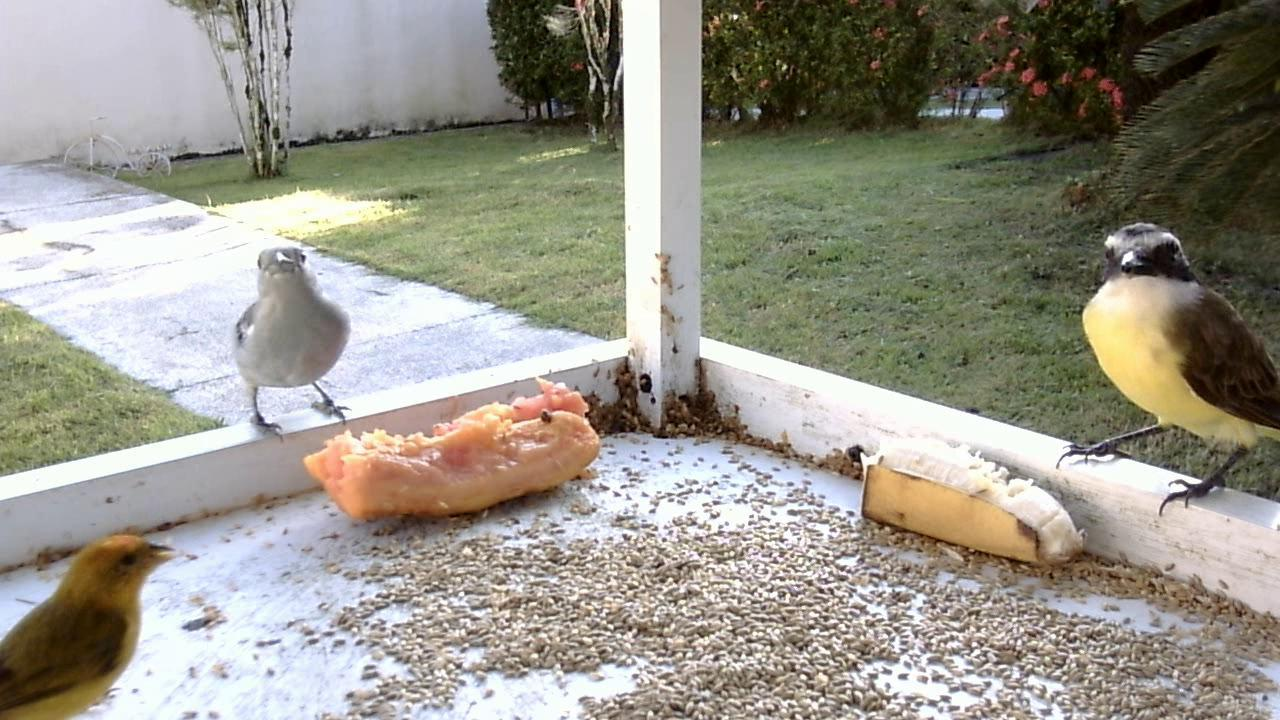bem_te_vi: (1046, 212, 1278, 541)
canario_do_amazonas: (3, 532, 195, 716)
sanhaco_da_amazonia: (217, 236, 365, 452)
